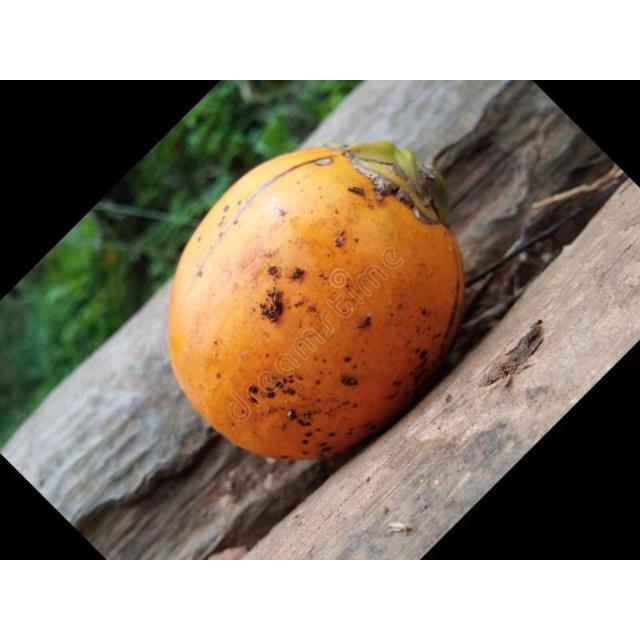good: (166, 140, 466, 462)
